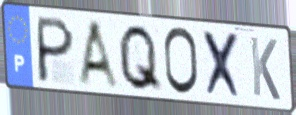A: (76, 18, 123, 93)
K: (248, 33, 282, 103)
O: (162, 25, 201, 98)
P: (35, 14, 76, 86)
Q: (117, 22, 164, 95)
X: (200, 28, 245, 102)
